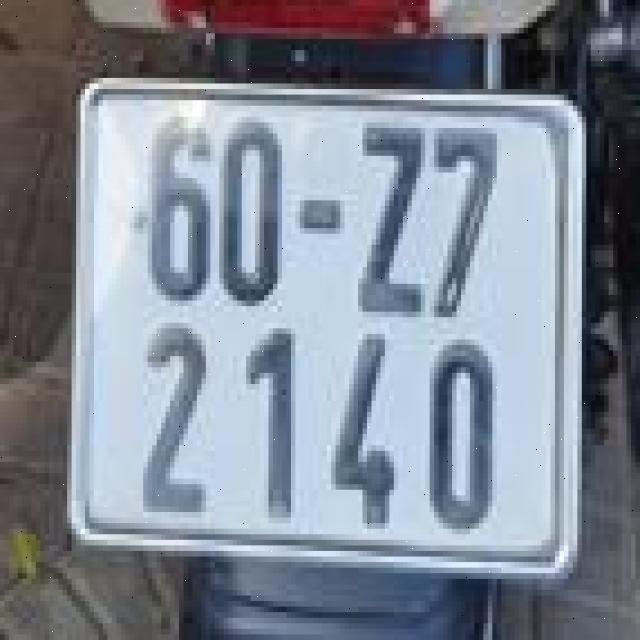0: (416, 334, 506, 540), (213, 120, 302, 303)
1: (233, 320, 309, 537)
2: (128, 320, 217, 515)
4: (324, 323, 414, 545)
6: (139, 117, 224, 300)
7: (423, 128, 503, 317)
Z: (349, 131, 430, 320)
